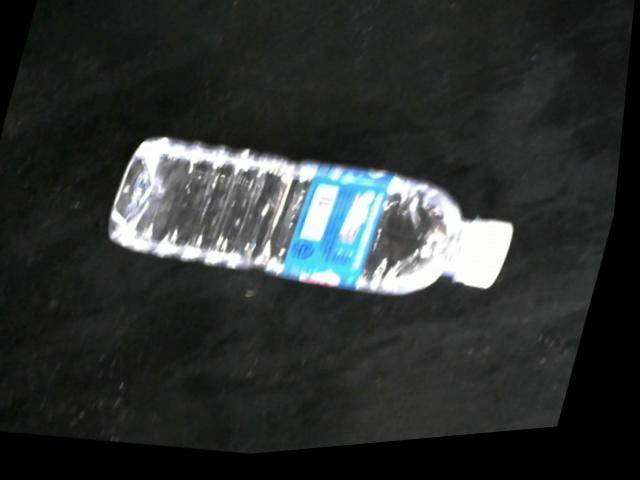bottle: (110, 139, 520, 308)
